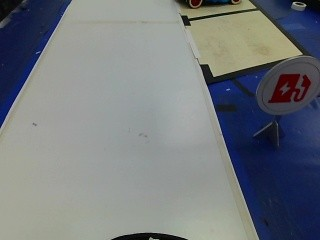battery: (261, 60, 318, 115)
